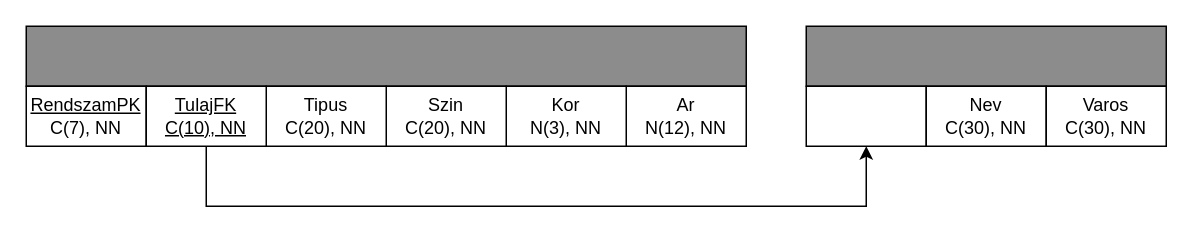
This 1193x245 diagram has some shape labels left out. Here are the shapes that lost their labels. From the top down, the centre of each, then its label:
At [385,55]: "Auto".
At [985,55]: "Tulajdonos".
At [865,115]: "Tkod C(10), NN".
